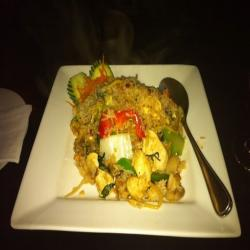rice: (67, 66, 191, 160)
